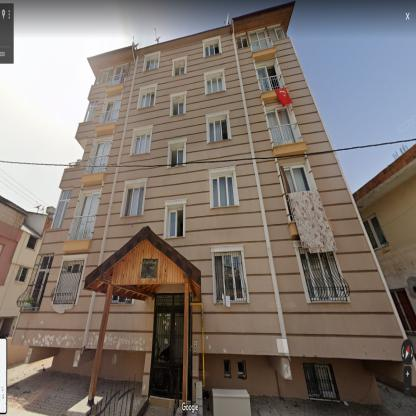door: (149, 294, 184, 399), (188, 292, 192, 401)
window: (299, 247, 346, 301), (214, 251, 247, 303), (73, 193, 100, 240), (303, 364, 336, 400), (266, 107, 296, 145), (30, 255, 52, 306), (55, 262, 83, 302), (390, 290, 416, 330), (50, 188, 72, 228), (364, 215, 387, 249), (212, 174, 236, 206), (284, 164, 312, 191), (90, 140, 111, 173), (124, 186, 144, 216), (208, 118, 228, 142), (167, 208, 183, 237), (248, 30, 270, 50), (257, 66, 272, 92), (132, 133, 150, 154), (103, 100, 120, 122), (84, 100, 98, 122), (206, 76, 223, 94), (96, 67, 113, 84), (267, 24, 285, 40), (170, 148, 184, 166), (140, 92, 154, 108), (16, 266, 29, 282), (112, 66, 122, 85), (205, 43, 219, 56), (236, 33, 248, 48), (172, 101, 184, 115), (145, 58, 158, 70), (27, 236, 37, 249), (238, 360, 245, 376), (224, 360, 230, 376), (175, 66, 184, 75)
